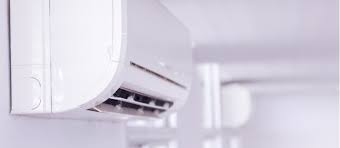ac: (3, 1, 198, 131)
